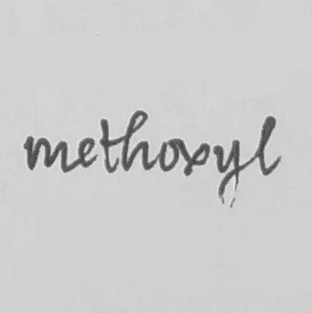e: (75, 135, 97, 169)
h: (121, 107, 151, 173)
l: (254, 113, 283, 178)
m: (27, 134, 71, 176)
o: (156, 137, 179, 172)
t: (97, 115, 120, 175)
x: (180, 137, 211, 178)
y: (212, 137, 243, 211)
